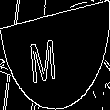M_N: (40, 26, 70, 84)
